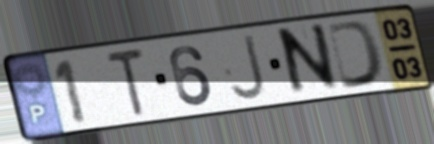1: (52, 58, 88, 126)
6: (166, 44, 215, 107)
D: (324, 17, 386, 92)
J: (228, 32, 270, 104)
N: (277, 20, 341, 101)
T: (103, 46, 148, 120)
